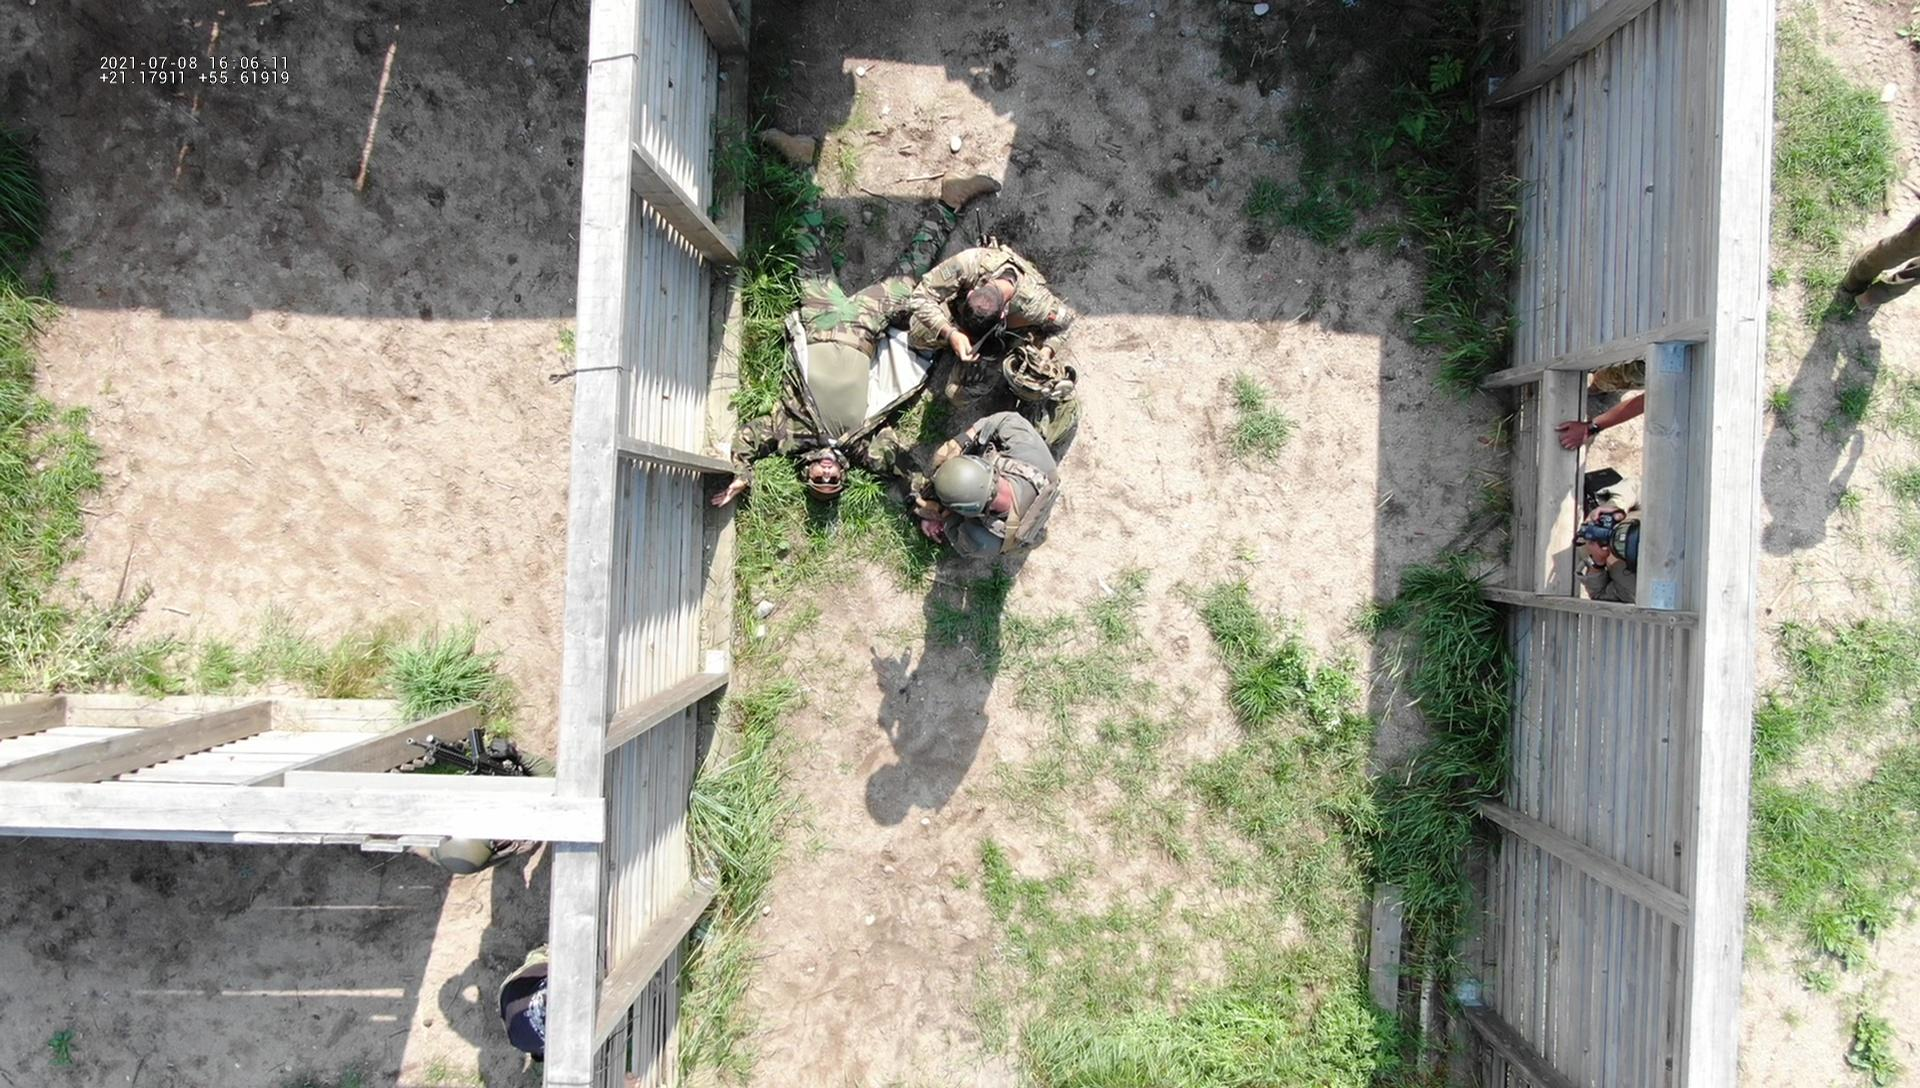Soldier: (731, 127, 894, 489), (884, 226, 1083, 417), (928, 413, 1069, 575)
